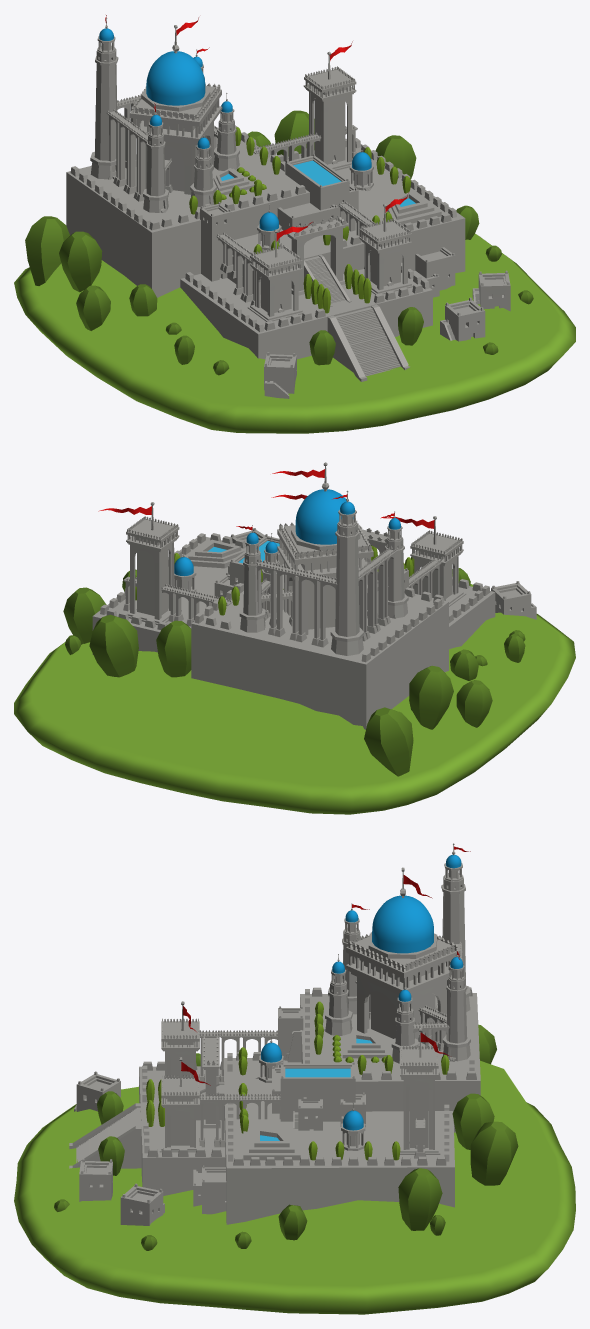
The model's file is castle_on_hills.glb.
3 views of the same model, one above another, from view 1: azimuth 30°, elevation 25°; view 2: azimuth 150°, elevation 25°; view 3: azimuth 270°, elevation 25° (orthographic). The views are drawn at different scales.
Parts seen in each view (by area): view 1: polySurface303, polySurface304, polySurface262, polySurface265, polySurface333, polySurface292, polySurface336, polySurface309, polySurface311, polySurface305, pCube105, pCylinder58 (+21 smaller); view 2: polySurface303, polySurface304, polySurface262, polySurface265, polySurface309, polySurface312, polySurface311, pCylinder58, pCylinder4, polySurface292, pCylinder41, polySurface298 (+12 smaller); view 3: polySurface303, polySurface304, polySurface262, pCube105, polySurface265, polySurface336, polySurface305, polySurface333, pCylinder4, polySurface309, pCylinder3, polySurface298 (+17 smaller).
Part boxes in pixels (x1,y1,x2,y2): polySurface303: [14, 233, 575, 433]; polySurface304: [66, 137, 465, 359]; polySurface262: [129, 25, 222, 194]; polySurface265: [303, 66, 356, 170]; polySurface333: [327, 304, 409, 381]; polySurface292: [247, 245, 304, 321]; polySurface336: [359, 218, 413, 294]; polySurface309: [90, 18, 118, 179]; polySurface311: [106, 109, 147, 201]; polySurface305: [190, 93, 240, 207]; pCube105: [285, 154, 349, 220]; pCylinder58: [25, 216, 69, 285]; polySurface303: [14, 584, 575, 814]; polySurface304: [92, 537, 495, 729]; polySurface262: [277, 462, 373, 634]; polySurface265: [126, 516, 181, 625]; polySurface309: [330, 490, 364, 655]; polySurface312: [256, 560, 337, 647]; polySurface311: [358, 547, 397, 641]; pCylinder58: [364, 707, 413, 776]; pCylinder4: [89, 614, 138, 677]; polySurface292: [410, 530, 466, 606]; pCylinder41: [409, 665, 453, 729]; polySurface298: [239, 525, 265, 632]; polySurface303: [14, 1060, 575, 1314]; polySurface304: [139, 993, 480, 1224]; polySurface262: [345, 867, 460, 1039]; pCube105: [280, 1062, 355, 1121]; polySurface265: [398, 1046, 440, 1154]; polySurface336: [159, 1075, 201, 1152]; polySurface305: [323, 954, 418, 1063]; polySurface333: [69, 1103, 141, 1168]; pCylinder4: [470, 1121, 518, 1185]; polySurface309: [435, 843, 470, 1011]; pCylinder3: [398, 1168, 442, 1230]; polySurface298: [442, 949, 470, 1061].
Bounding box in the file's own units: 9.8 × 6.3 × 10.54.
